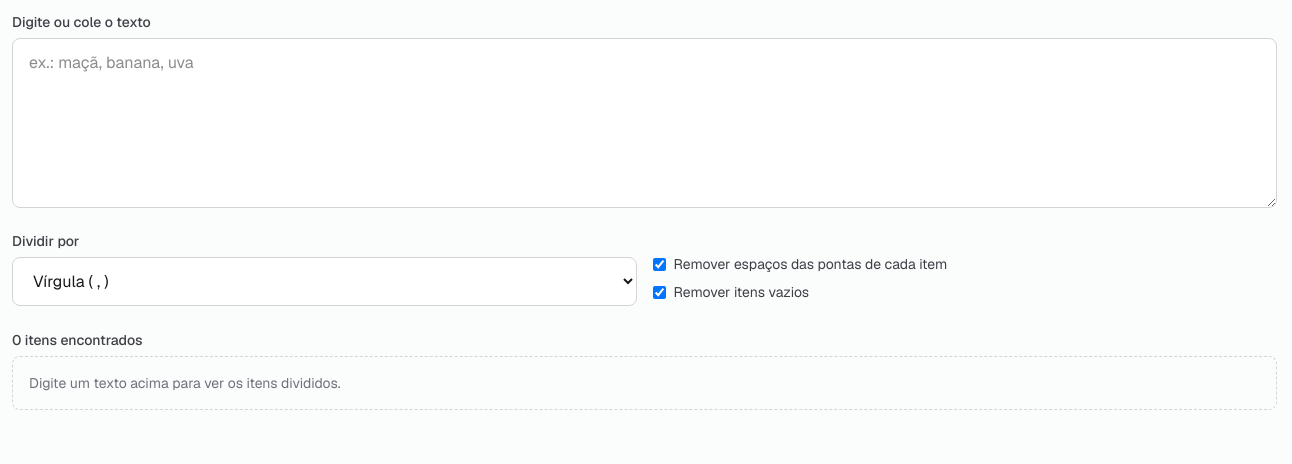
Test: DividirStringTool › mostra o campo de delimitador personalizado ao selecionar essa opção
This screenshot has width=1292, height=464.
Select "Delimitador personalizado" in the dropdown labelled "Dividir por" at (324, 282), box top-left (12, 257), bottom-right (636, 306)
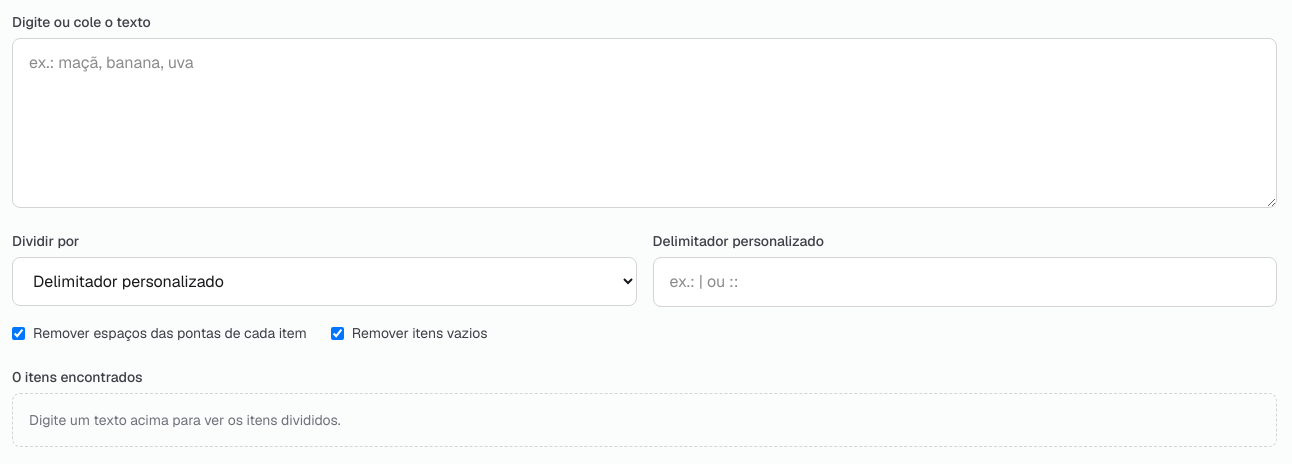
Check: the field labelled "Delimitador personalizado" is shown, box top-left (652, 257), bottom-right (1277, 307)
